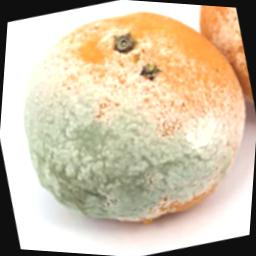Orange Rotten: (0, 0, 256, 221)
